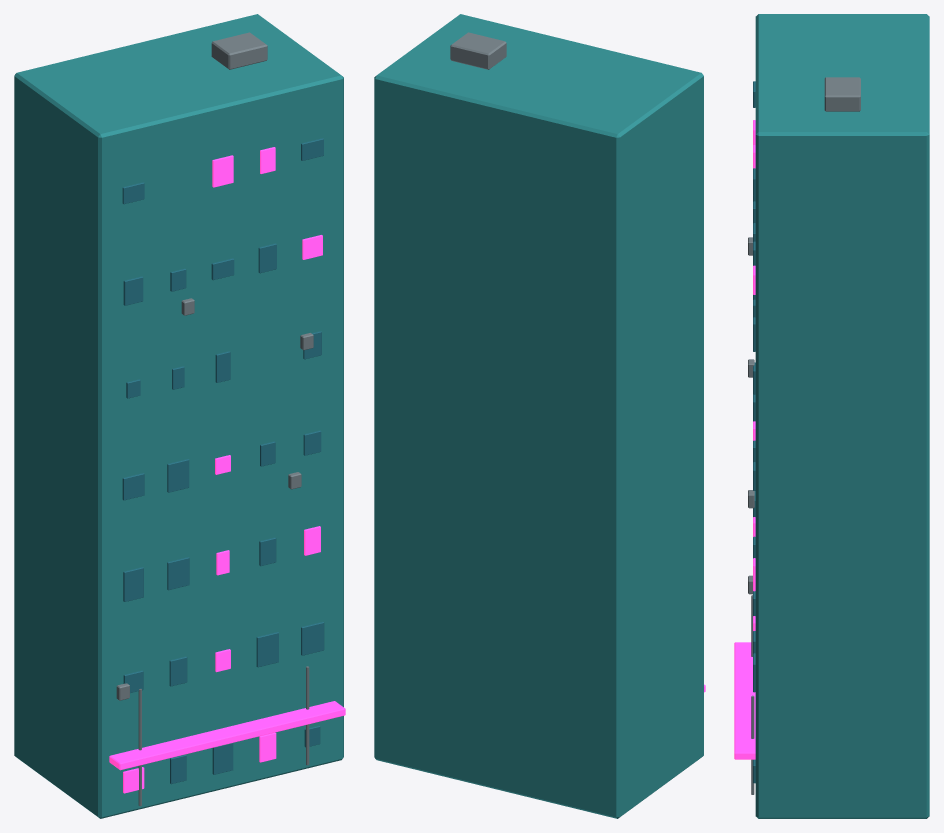
Rendered from building_013_seed11.glb.
The picture shows the model from 3 angles, left to right: view 1: azimuth 30°, elevation 25°; view 2: azimuth 150°, elevation 25°; view 3: azimuth 270°, elevation 25°; orthographic projection.
Visible parts, largest first — view 1: building_013_seed11; view 2: building_013_seed11; view 3: building_013_seed11.
Part boxes in pixels (left/top/right/bottom): building_013_seed11: left=14, top=14, right=345, bottom=818; building_013_seed11: left=374, top=14, right=705, bottom=818; building_013_seed11: left=734, top=14, right=929, bottom=818.
Bounding box in the file's own units: 7.88 × 21.47 × 5.4.
